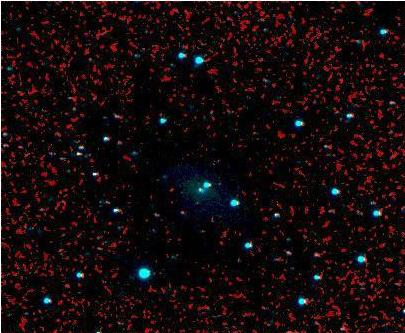star: (183, 181, 213, 211)
